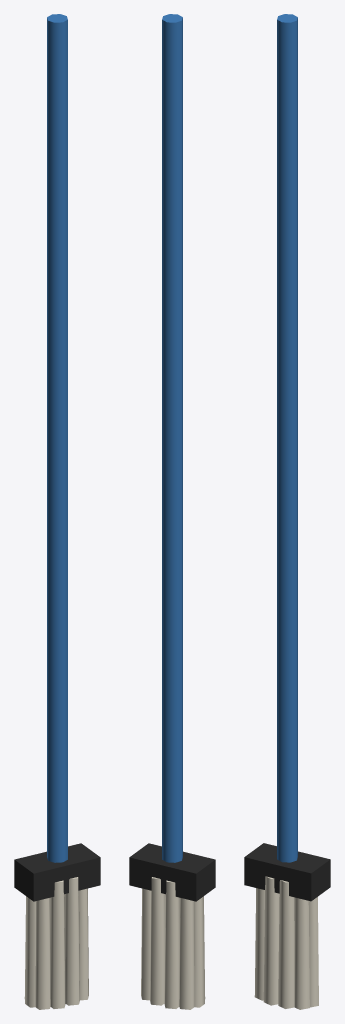
The model's file is mop.glb.
3 renders of one model, left to right at view 1: azimuth 30°, elevation 25°; view 2: azimuth 150°, elevation 25°; view 3: azimuth 330°, elevation 25°, orthographic.
Parts seen in each view (by area): view 1: mop; view 2: mop; view 3: mop.
Part boxes in pixels (bbox=[...]): mop: bbox=[14, 14, 100, 1009]; mop: bbox=[129, 14, 215, 1009]; mop: bbox=[244, 14, 330, 1009].
Bounding box in the file's own units: 0.1 × 1.4 × 0.0609.
